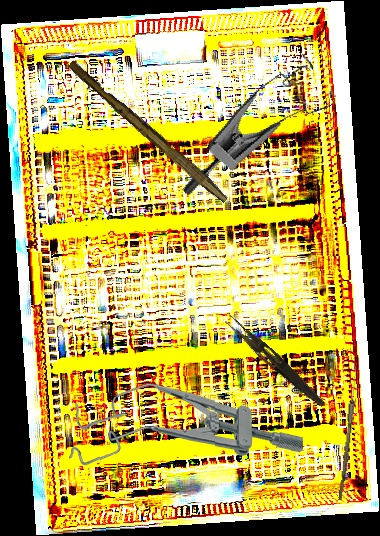Dressing Forceps: (221, 314, 330, 409)
Scalpel Handle: (64, 59, 233, 204)
Speculum: (179, 35, 349, 237), (69, 381, 304, 471)
Surgical Spoon: (338, 365, 359, 501)
